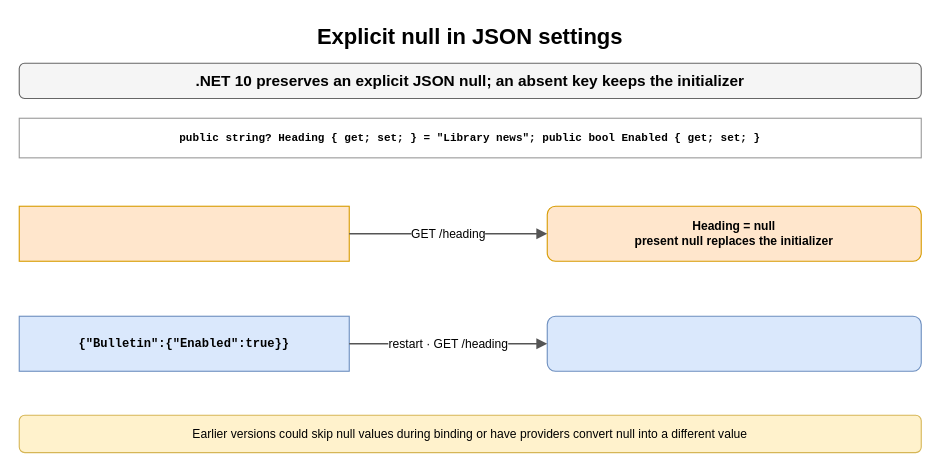
Image size: 941x472. Some labels were removed from this diagram. The box of each missing label's shape, as (x1, y1, x2, y2) in pixels:
Heading = "Library news" key absent · Enabled gives a section to bind: (546, 315, 921, 371)
{"Bulletin":{"Heading":null}}: (18, 205, 349, 261)
